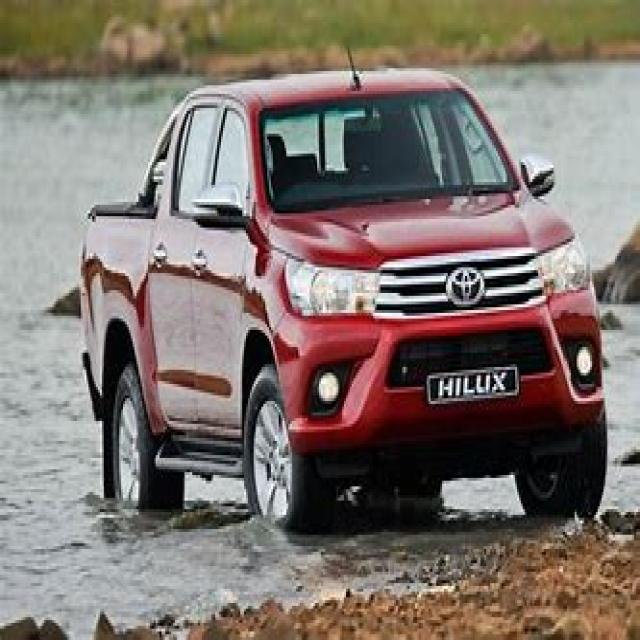light_vehicle: (77, 40, 638, 549)
